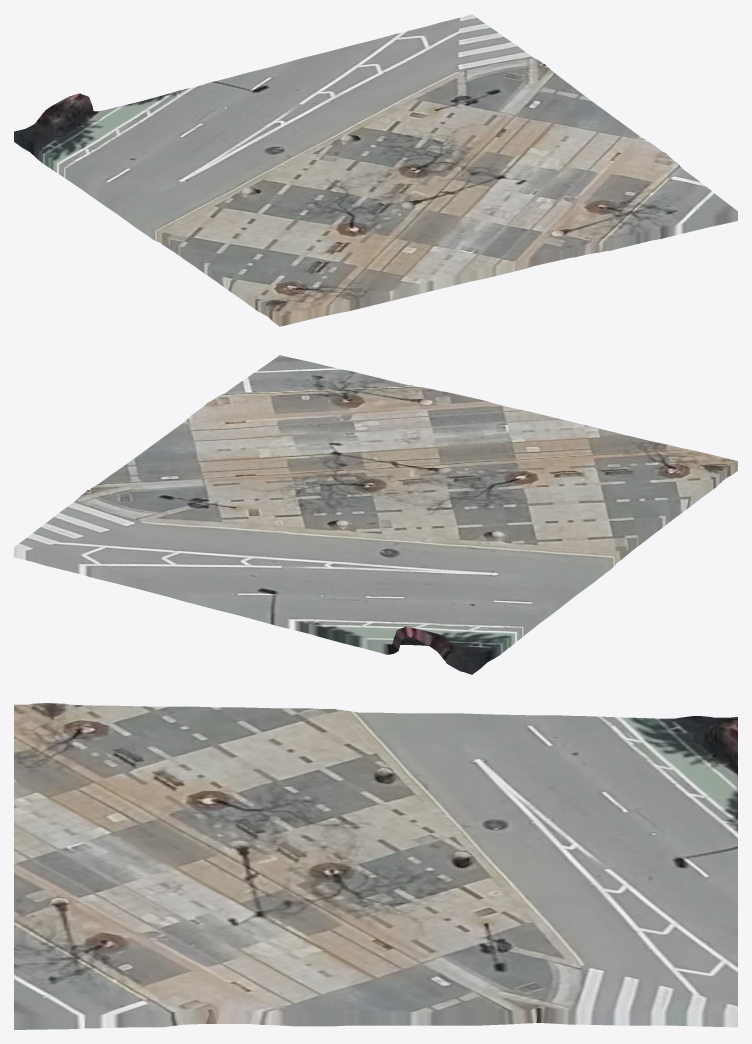
The model's file is z20-167787-405219-h0-yup-uvflip-v3-world.glb.
3 views of the same model, one above another, from view 1: azimuth 30°, elevation 25°; view 2: azimuth 150°, elevation 25°; view 3: azimuth 270°, elevation 25° (orthographic). The views are drawn at different scales.
Bounding box in the file's own units: 30.16 × 2.08 × 30.32.
Materials: 1 (1 with a texture image).
